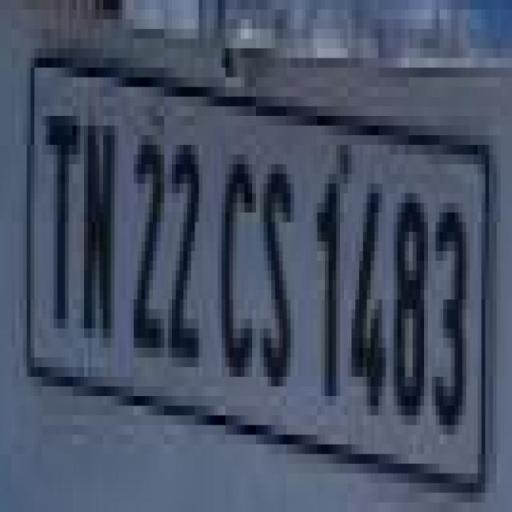number plate: (2, 57, 488, 483)
